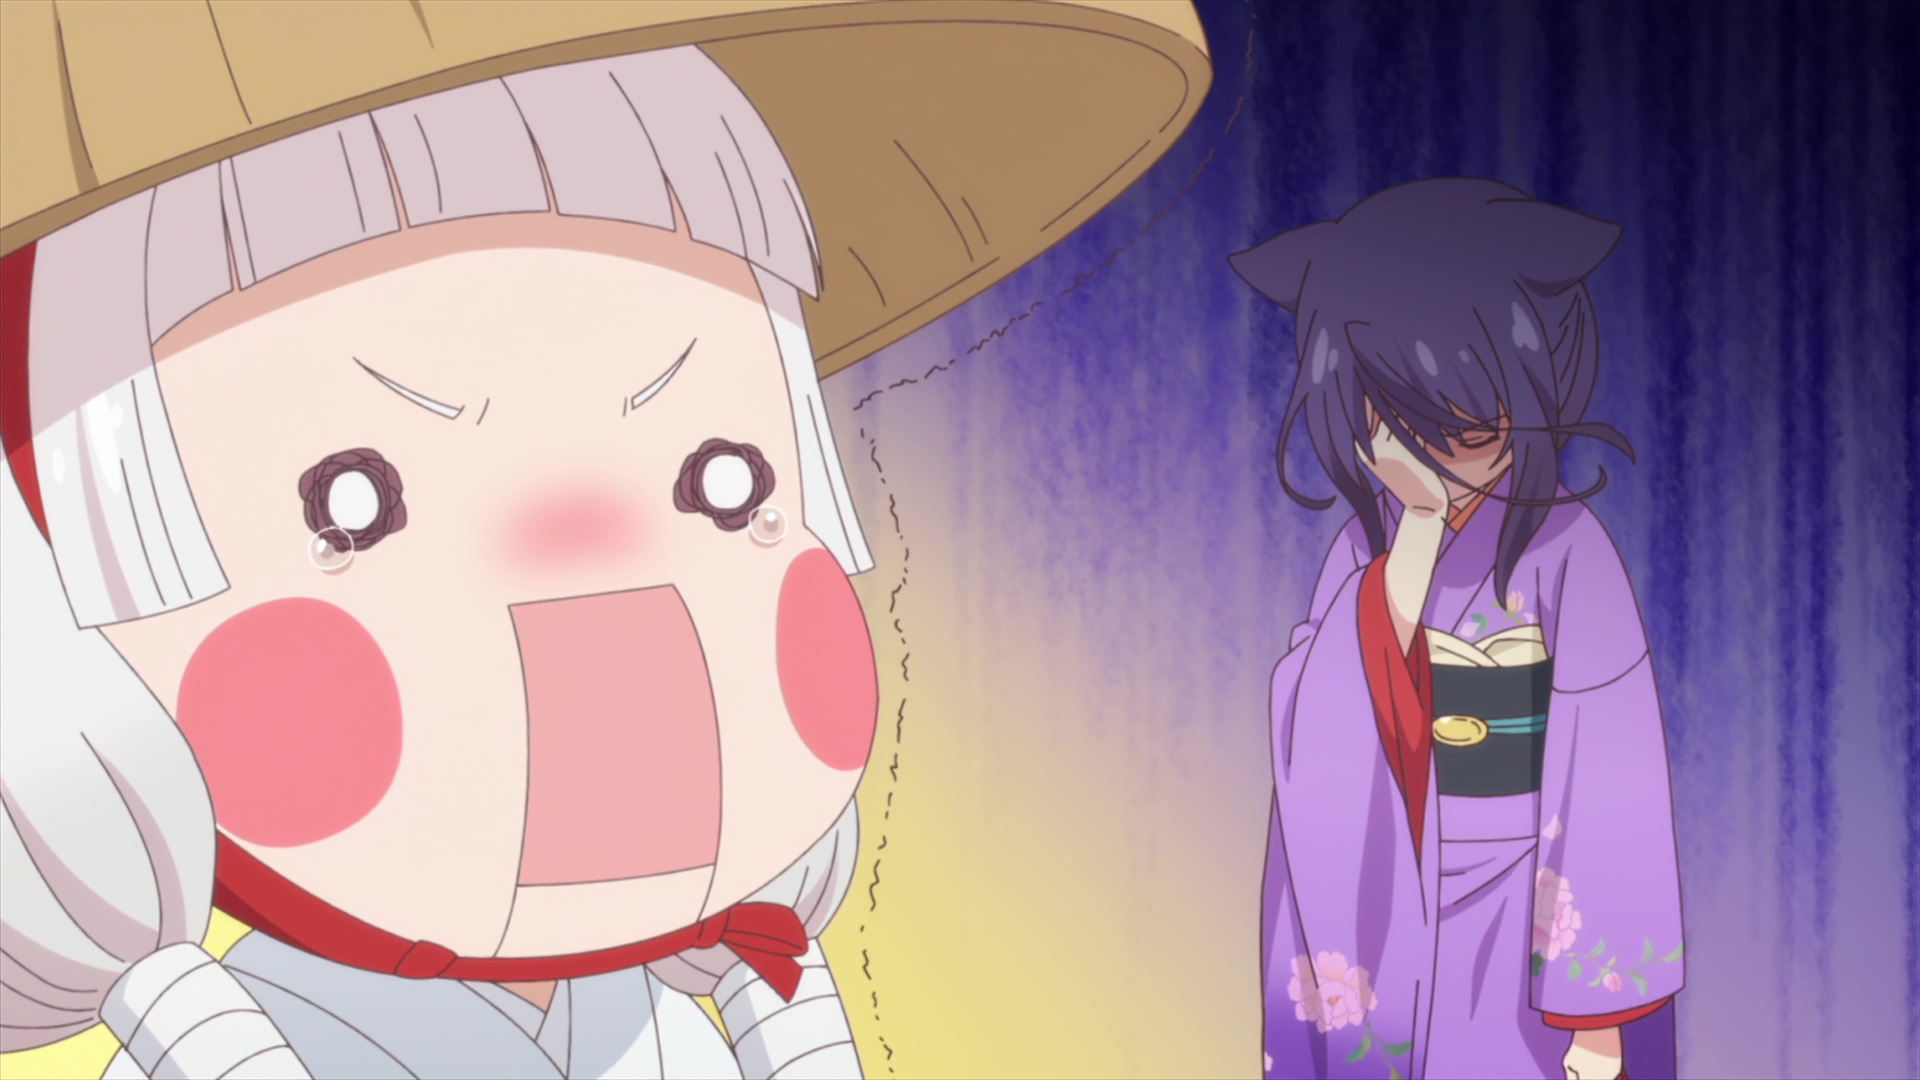其他: (1, 1, 1212, 1080)
皋: (1225, 179, 1685, 1080)
